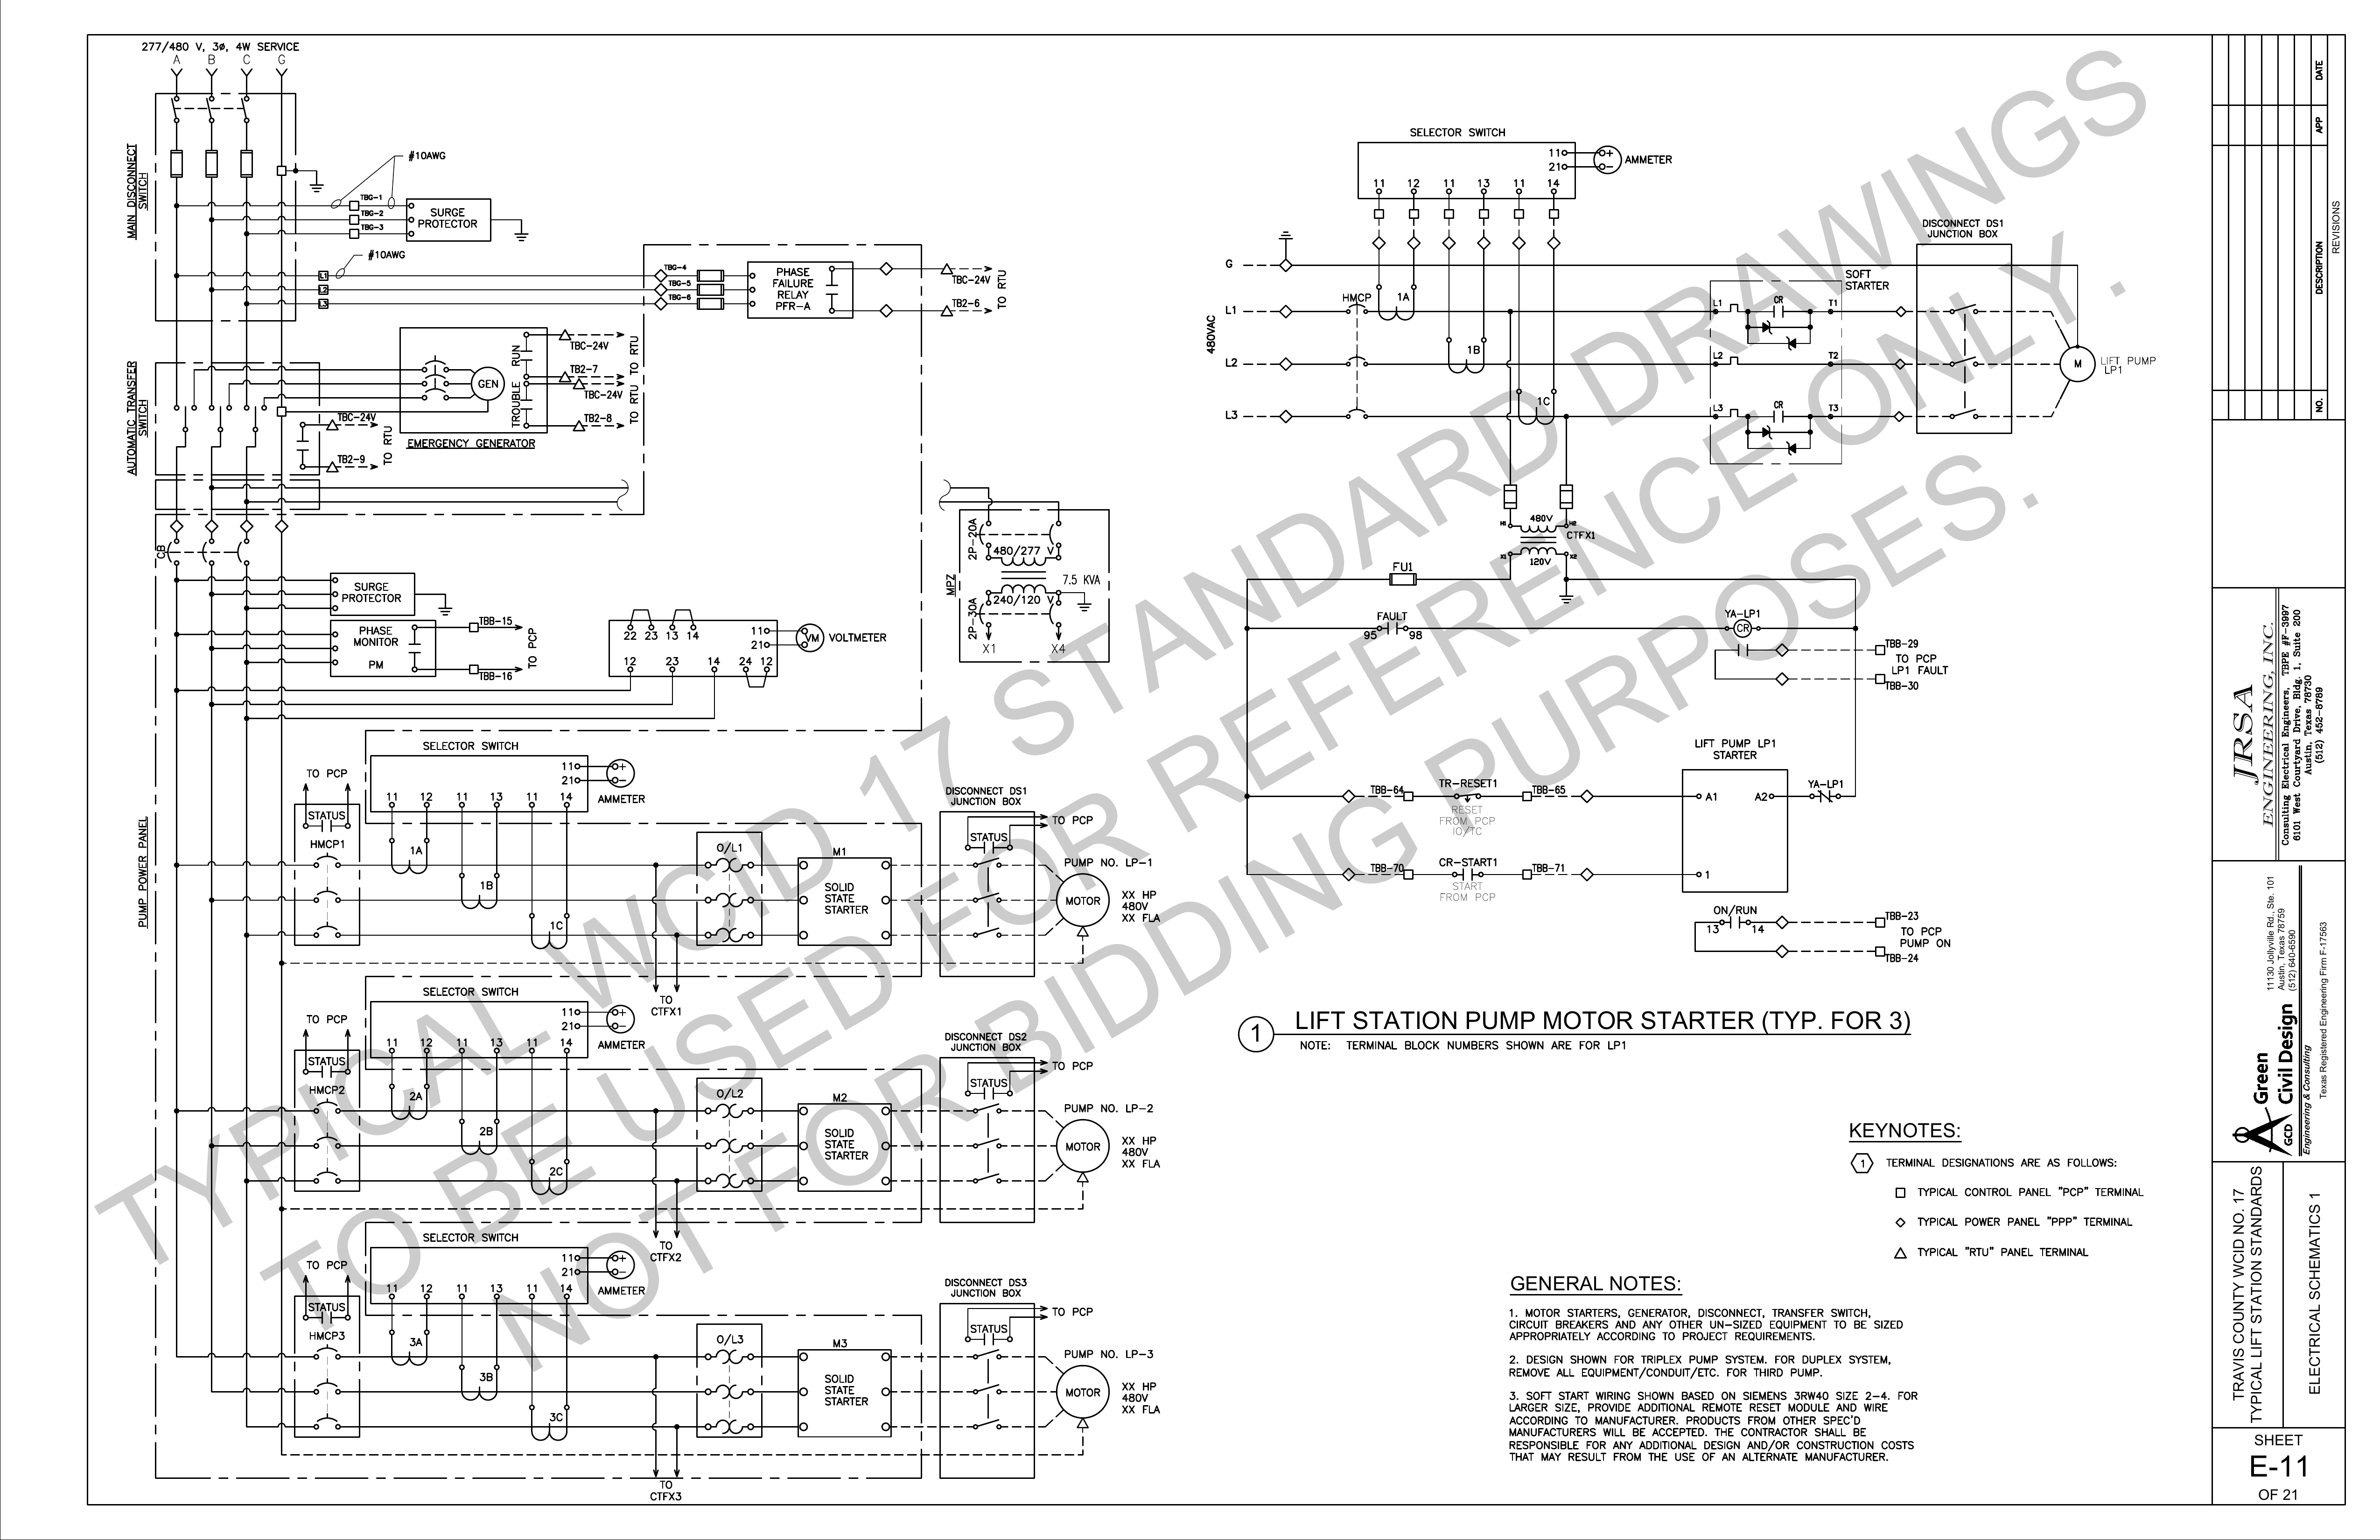circuit_breaker: (1332, 395, 1381, 437), (305, 1406, 357, 1436), (304, 1372, 356, 1400), (1334, 345, 1379, 376), (307, 1162, 350, 1188), (307, 1127, 347, 1155), (307, 848, 349, 872), (970, 517, 999, 550), (1041, 515, 1070, 548), (307, 1342, 349, 1365), (307, 1096, 347, 1119), (1334, 297, 1374, 319), (309, 881, 345, 905), (163, 534, 189, 567), (977, 600, 1003, 630), (309, 919, 345, 940), (232, 536, 257, 567), (413, 354, 456, 371), (413, 387, 460, 402), (199, 534, 220, 567), (1046, 600, 1065, 633), (415, 375, 454, 387)
fuse: (1370, 557, 1431, 593), (163, 140, 198, 192), (1544, 468, 1584, 512), (231, 135, 264, 184), (199, 135, 224, 186), (1495, 472, 1523, 512), (689, 295, 732, 317), (690, 260, 727, 284), (683, 281, 730, 298)
ground: (1263, 208, 1303, 248), (491, 225, 539, 246), (428, 597, 465, 619), (307, 165, 331, 198), (1551, 588, 1589, 609), (1074, 597, 1091, 617)
switch: (1931, 284, 1990, 324), (1939, 343, 1986, 380), (970, 919, 1010, 956), (1945, 394, 1984, 430), (966, 1410, 1013, 1439), (964, 1096, 1008, 1126), (161, 85, 189, 130), (966, 1165, 1011, 1193), (963, 853, 1017, 876), (964, 883, 1008, 910), (964, 1375, 1011, 1400), (966, 1129, 1006, 1157), (199, 82, 222, 130), (236, 82, 258, 127), (964, 1344, 1010, 1367)
transformer: (1492, 515, 1589, 569), (973, 551, 1076, 597)
